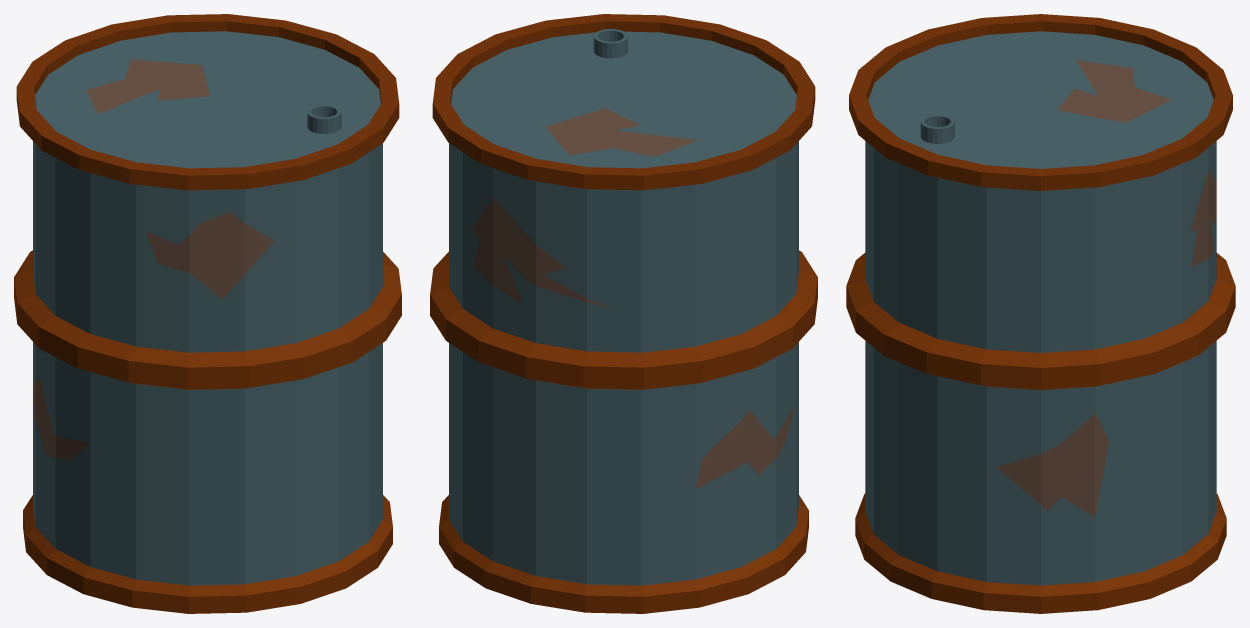
Rendered from Barrel.fbx.
3 views of the same model, side by side, from view 1: azimuth 30°, elevation 25°; view 2: azimuth 150°, elevation 25°; view 3: azimuth 270°, elevation 25° (orthographic).
Visible parts, largest first — view 1: Cylinder; view 2: Cylinder; view 3: Cylinder.
Boxes of the visible parts, bbox=[...] form: Cylinder: bbox=[14, 14, 401, 613]; Cylinder: bbox=[430, 14, 817, 613]; Cylinder: bbox=[846, 14, 1235, 613].
Size of the model in its own units: 187 by 235 by 187.
